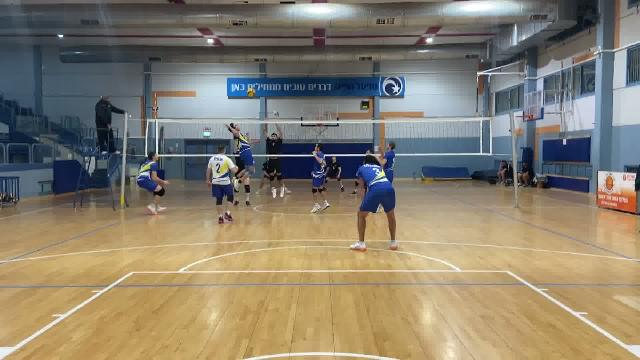ball: (246, 85, 257, 97)
